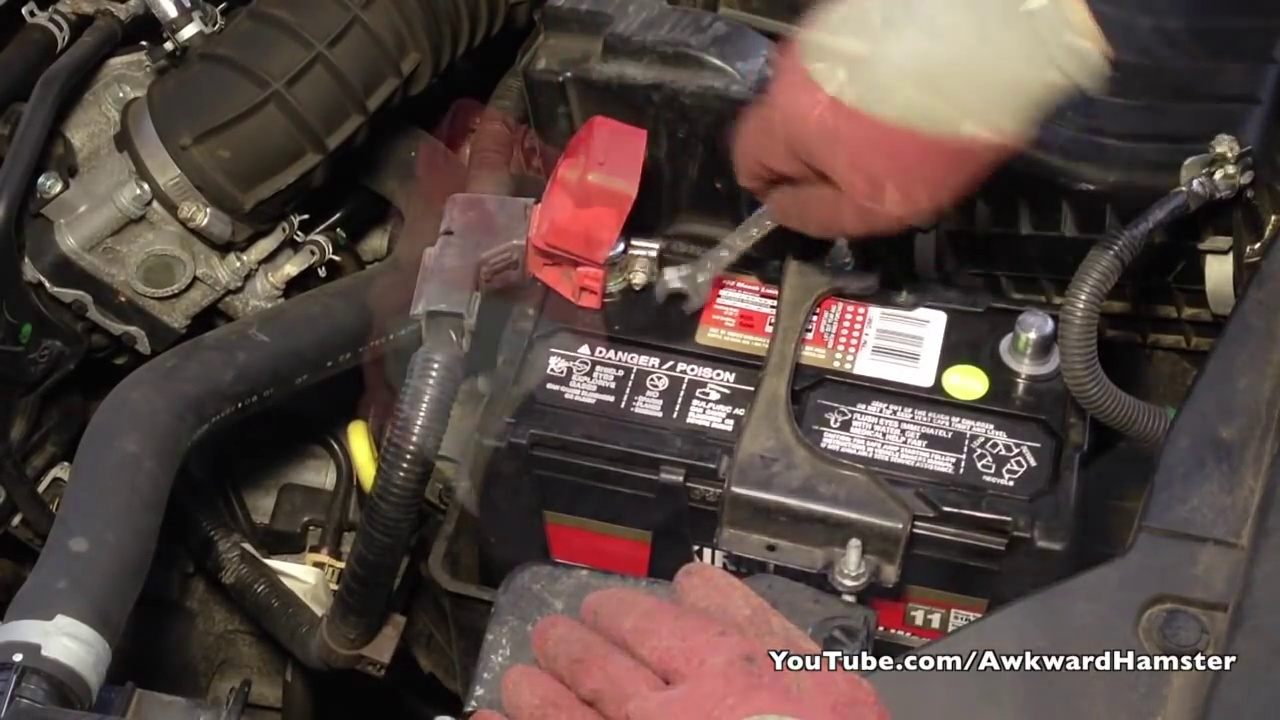battery: (489, 225, 1075, 545)
neg_disconnected: (969, 284, 1090, 402)
pos_connected: (489, 119, 678, 309)
